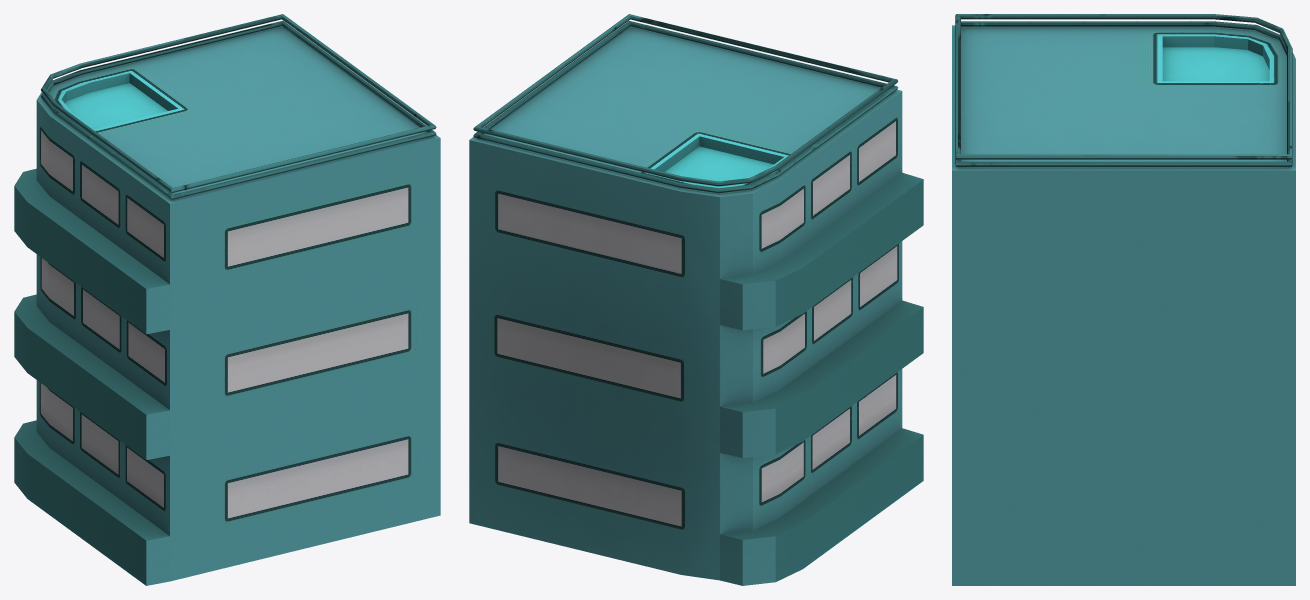
File: Spanky_home.fbx
3 views of the same model, side by side, from view 1: azimuth 30°, elevation 25°; view 2: azimuth 150°, elevation 25°; view 3: azimuth 270°, elevation 25° (orthographic). The views are drawn at different scales.
Visible parts, largest first — view 1: Spanky_home; view 2: Spanky_home; view 3: Spanky_home.
Boxes of the visible parts, x1,y1,x2,y2 form: Spanky_home: (14,14,440,585); Spanky_home: (469,14,923,585); Spanky_home: (952,14,1295,585).
Size of the model in its own units: 64.97 by 82.66 by 60.
1 material, 1 textured.
